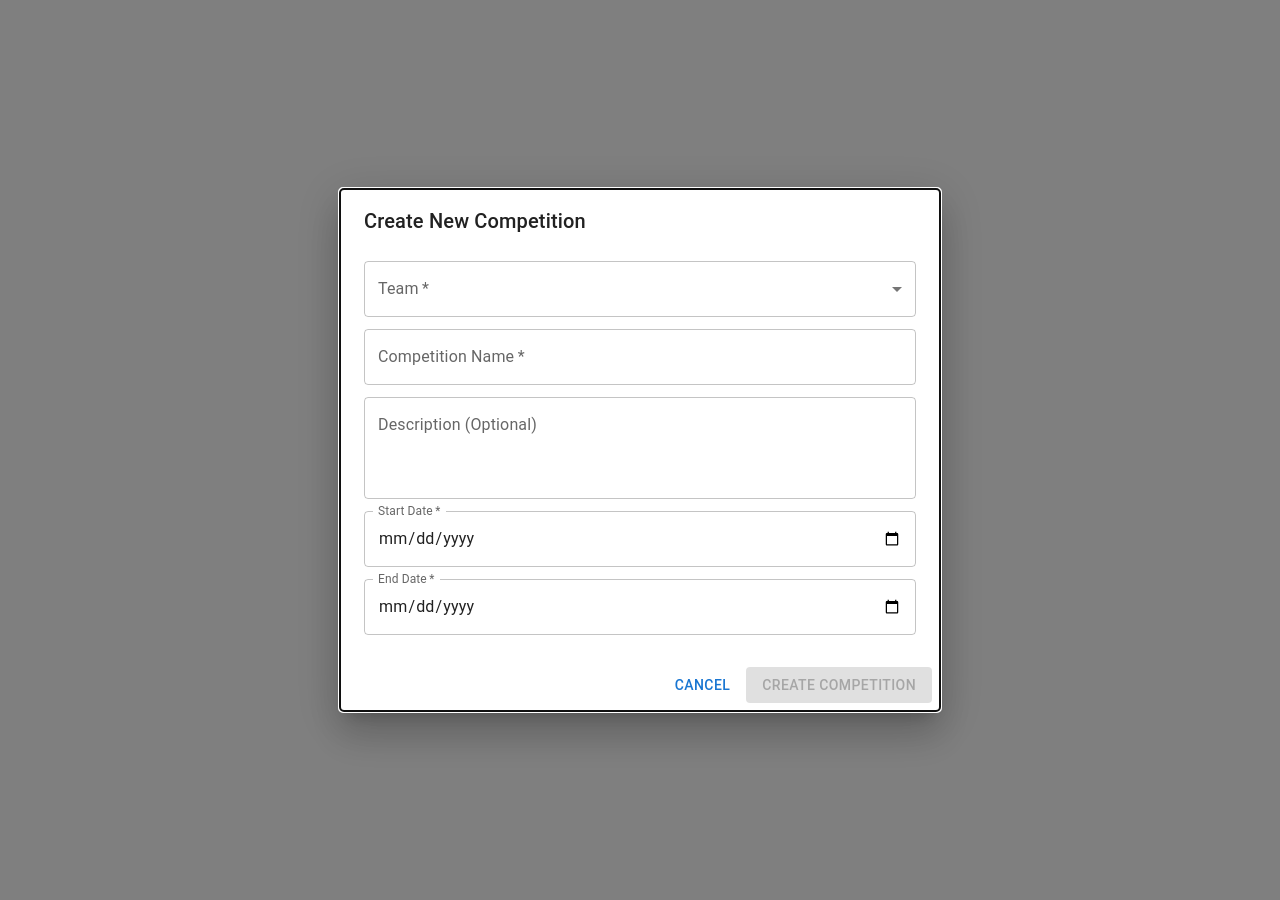
CreateCompetitionModal › enables submit button when all required fields are filled
expect the heading "Create New Competition" is shown: met, box [364,209,586,233]
// Select team
Click the dropdown named "team" at [640, 289], box [364,261,916,317]
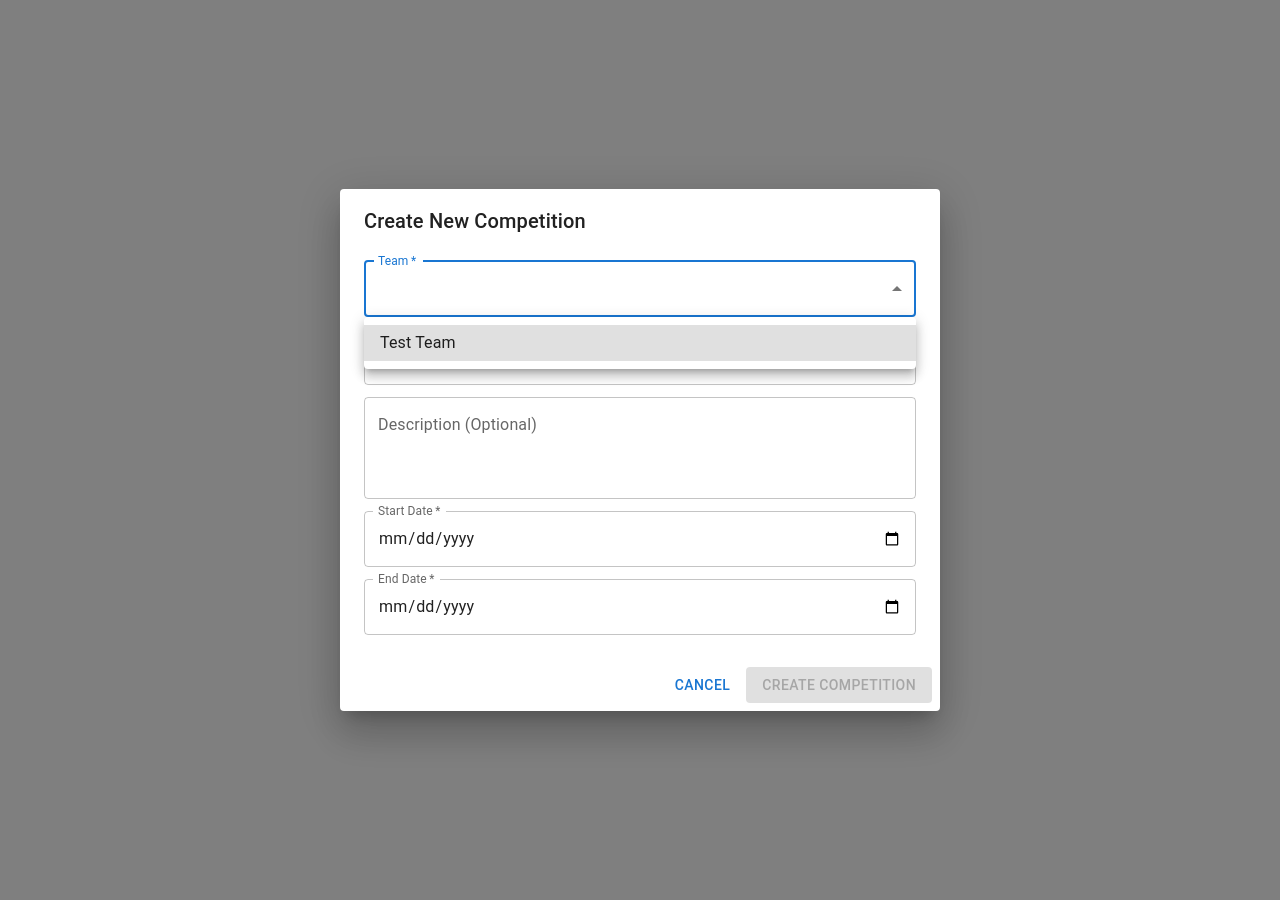
Click the option "Test Team" at [418, 342], box [364,325,916,361]
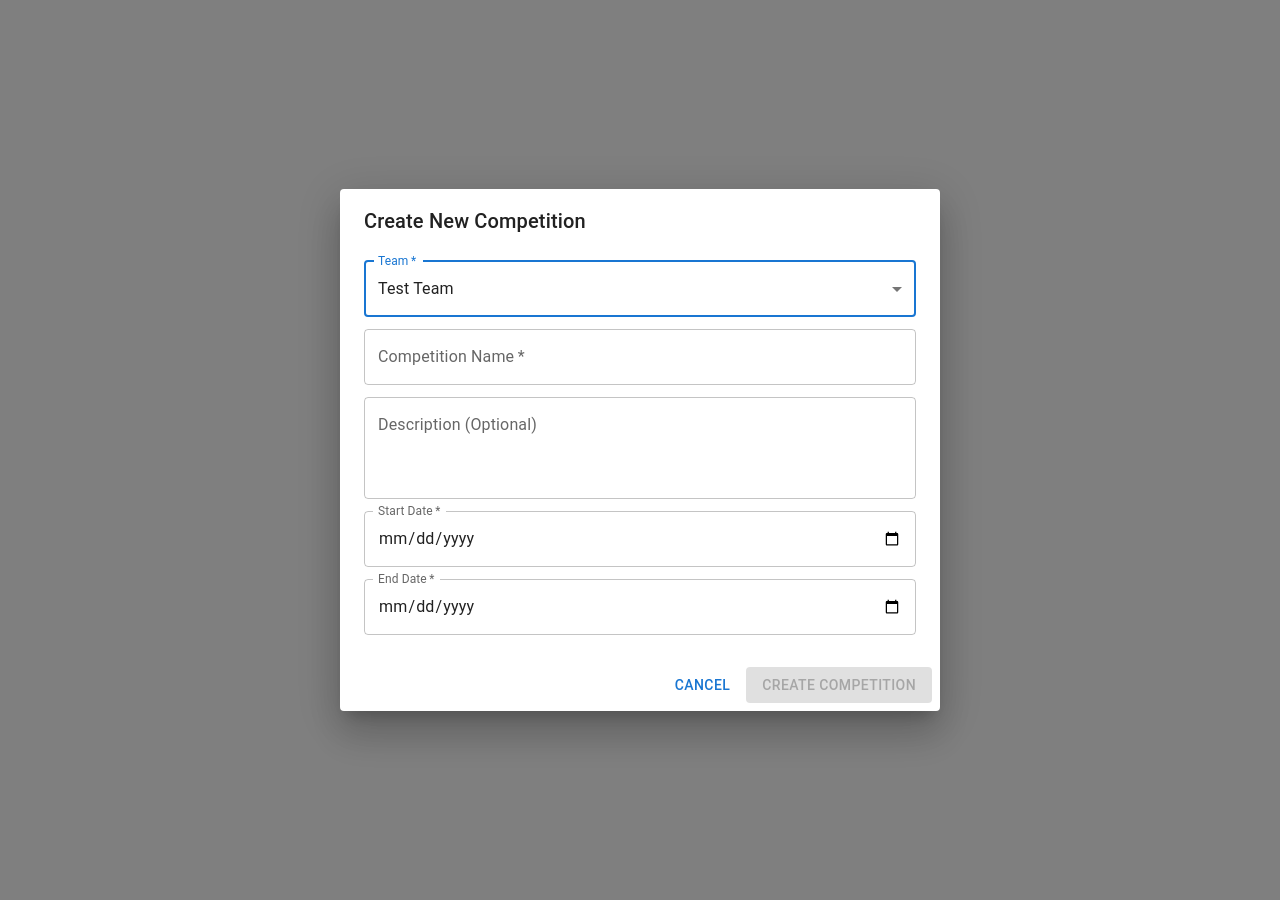
// Fill in name
Type "Summer League" into the field labelled "Competition Name *" at [640, 357], box [364,329,916,385]
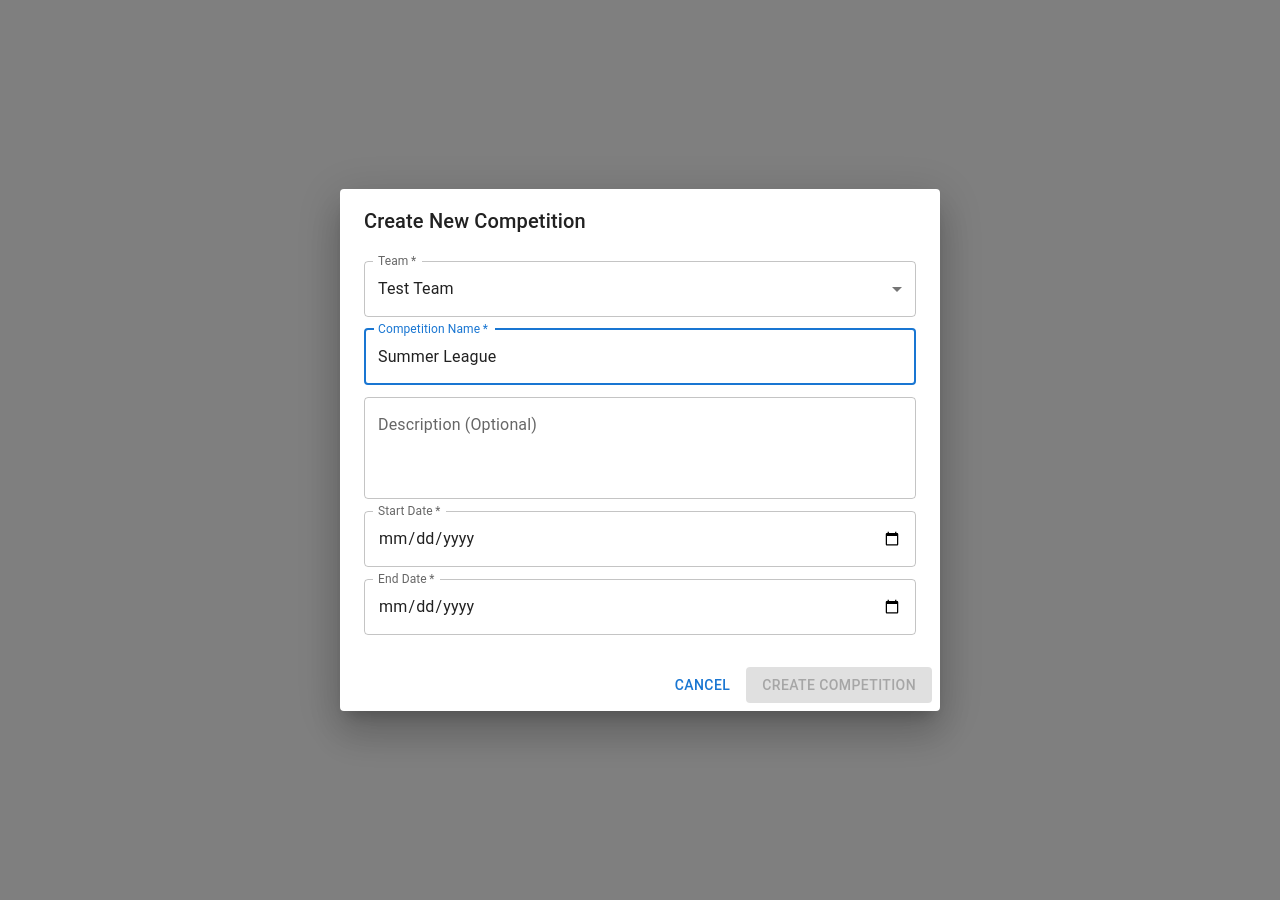
// Fill in dates
Type "2024-06-01" into the date field labelled "Start Date *" at [640, 539], box [364,511,916,567]
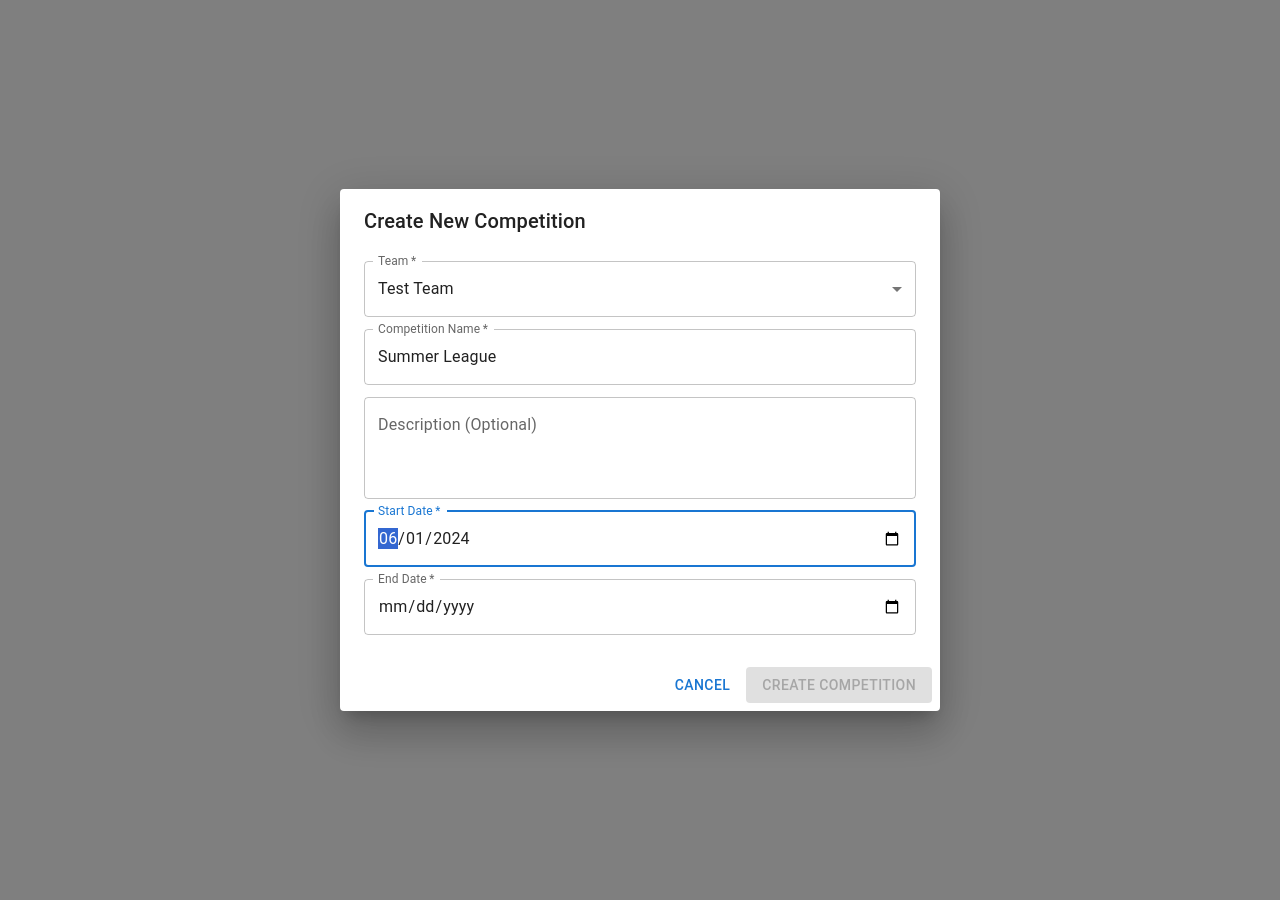
Type "2024-06-30" into the date field labelled "End Date *" at [640, 607], box [364,579,916,635]
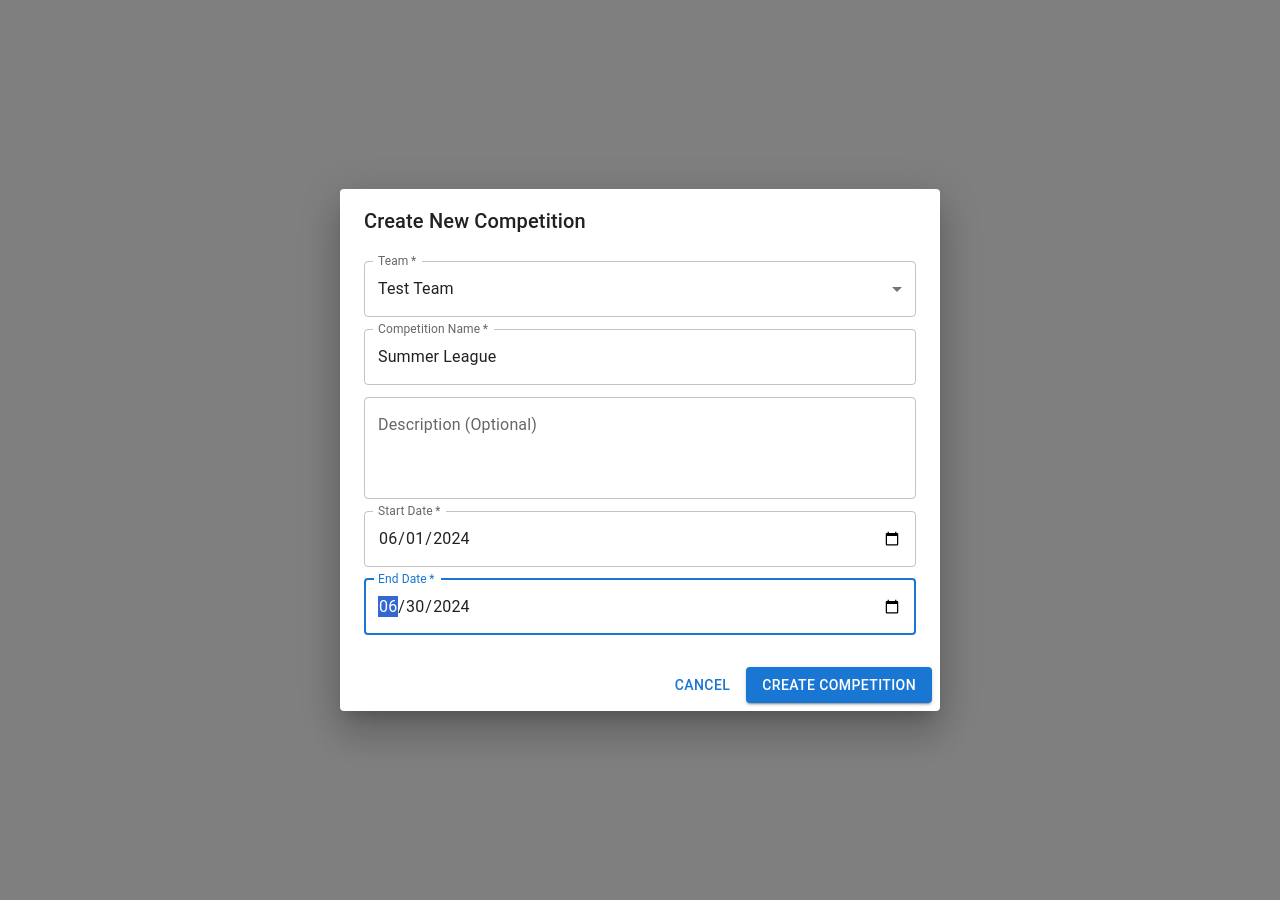
expect the button "Create Competition" is enabled: met, box [746,667,932,703]
